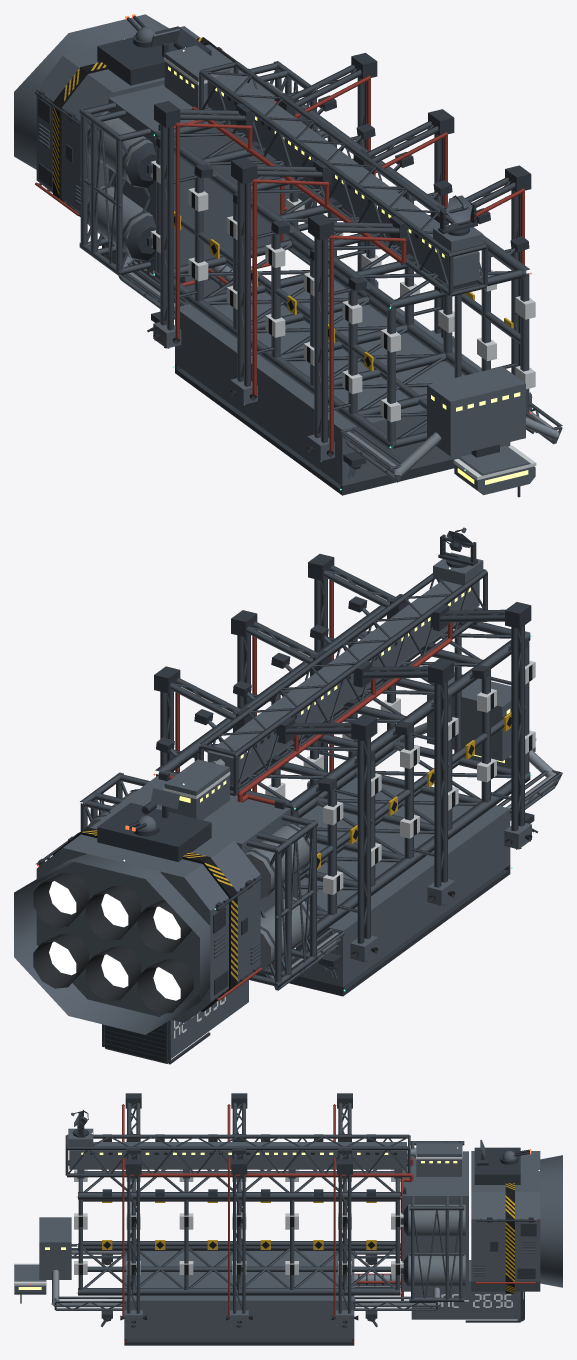
The model's file is crawler_navy.glb.
3 views of the same model, one above another, from view 1: azimuth 30°, elevation 25°; view 2: azimuth 150°, elevation 25°; view 3: azimuth 270°, elevation 25° (orthographic). The views are drawn at different scales.
Visible parts, largest first — view 1: trussFrame, berthHangar, spineDeck, serviceCore, spineFrame, fuelRack, crewCompartment, engineBlock, trussClamp, engineSkirt, leg3_frame, leg5_frame (+31 smaller); view 2: trussFrame, engineBlock, berthHangar, spineDeck, spineFrame, engineSkirt, fuelRack, engineHousing, leg1_frame, leg5_frame, leg3_frame, serviceCore (+28 smaller); view 3: trussFrame, berthHangar, spineDeck, engineBlock, spineFrame, serviceCore, engineSkirt, fuelRack, bayHull, trussClamp, crewCompartment, linkCarrierPort (+27 smaller).
Part boxes in pixels (bbox=[...]): trussFrame: bbox=[155, 99, 529, 450]; berthHangar: bbox=[175, 277, 510, 485]; spineDeck: bbox=[207, 72, 479, 285]; serviceCore: bbox=[108, 68, 289, 270]; spineFrame: bbox=[199, 61, 487, 296]; fuelRack: bbox=[79, 61, 317, 276]; crewCompartment: bbox=[427, 366, 525, 456]; engineBlock: bbox=[36, 26, 233, 211]; trussClamp: bbox=[150, 160, 535, 422]; engineSkirt: bbox=[14, 14, 168, 169]; leg3_frame: bbox=[237, 166, 322, 386]; leg5_frame: bbox=[314, 222, 399, 443]; trussFrame: bbox=[155, 600, 530, 950]; engineBlock: bbox=[36, 811, 260, 1022]; berthHangar: bbox=[272, 777, 510, 986]; spineDeck: bbox=[207, 580, 479, 785]; spineFrame: bbox=[199, 569, 487, 796]; engineSkirt: bbox=[14, 854, 210, 1034]; fuelRack: bbox=[80, 772, 317, 987]; engineHousing: bbox=[97, 803, 211, 861]; leg1_frame: bbox=[285, 722, 370, 943]; leg5_frame: bbox=[439, 609, 524, 831]; leg3_frame: bbox=[362, 666, 447, 887]; serviceCore: bbox=[108, 776, 290, 982]; trussFrame: bbox=[78, 1169, 400, 1295]; berthHangar: bbox=[124, 1251, 354, 1338]; spineDeck: bbox=[69, 1142, 406, 1169]; engineBlock: bbox=[471, 1151, 540, 1291]; spineFrame: bbox=[65, 1134, 410, 1177]; serviceCore: bbox=[402, 1151, 468, 1291]; engineSkirt: bbox=[540, 1155, 562, 1287]; fuelRack: bbox=[409, 1141, 464, 1301]; bayHull: bbox=[411, 1260, 520, 1319]; trussClamp: bbox=[74, 1169, 403, 1274]; crewCompartment: bbox=[39, 1217, 71, 1279]; linkCarrierPort: bbox=[54, 1296, 437, 1310].
Bounding box in the file's own units: 153 × 200 × 478.
